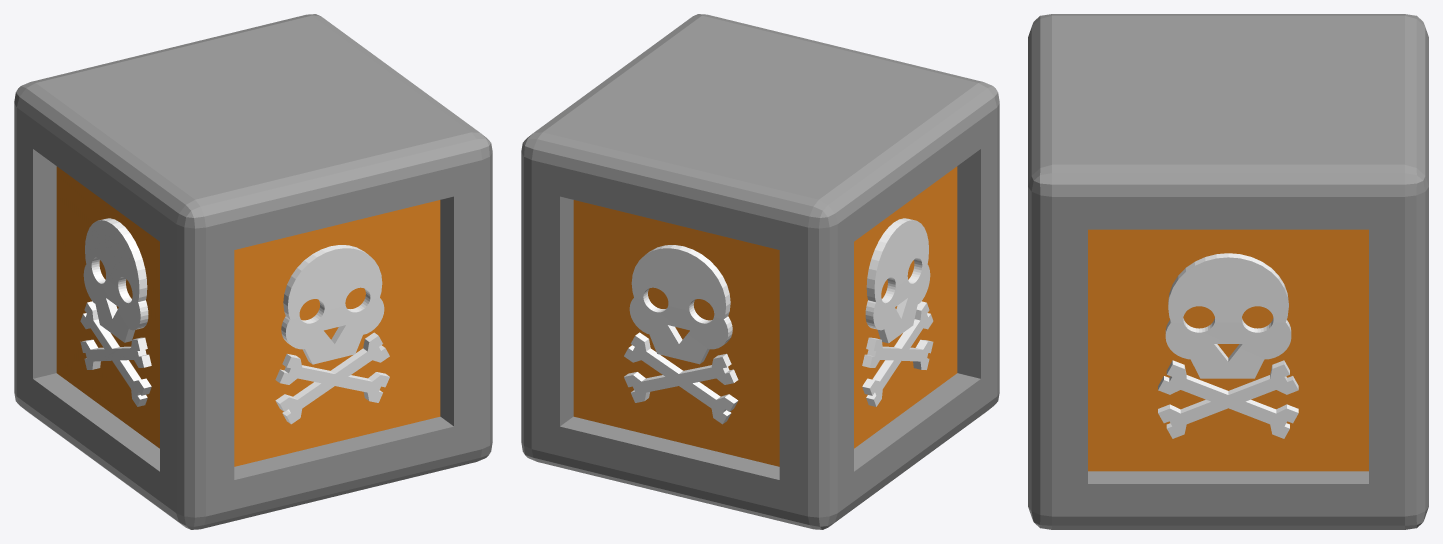
File: Danger Box.fbx
The picture shows the model from 3 angles, left to right: view 1: azimuth 30°, elevation 25°; view 2: azimuth 150°, elevation 25°; view 3: azimuth 270°, elevation 25°; orthographic projection. The views are drawn at different scales.
Parts seen in each view (by area): view 1: Danger Box, Skull Icon; view 2: Danger Box, Skull Icon; view 3: Danger Box, Skull Icon.
Boxes of the visible parts, x1,y1,x2,y2 form: Danger Box: (14, 14, 492, 529); Skull Icon: (80, 218, 389, 424); Danger Box: (521, 14, 999, 529); Skull Icon: (624, 218, 933, 424); Danger Box: (1028, 14, 1428, 529); Skull Icon: (1158, 253, 1298, 438).
Bounding box in the file's own units: 200 × 200 × 200.
